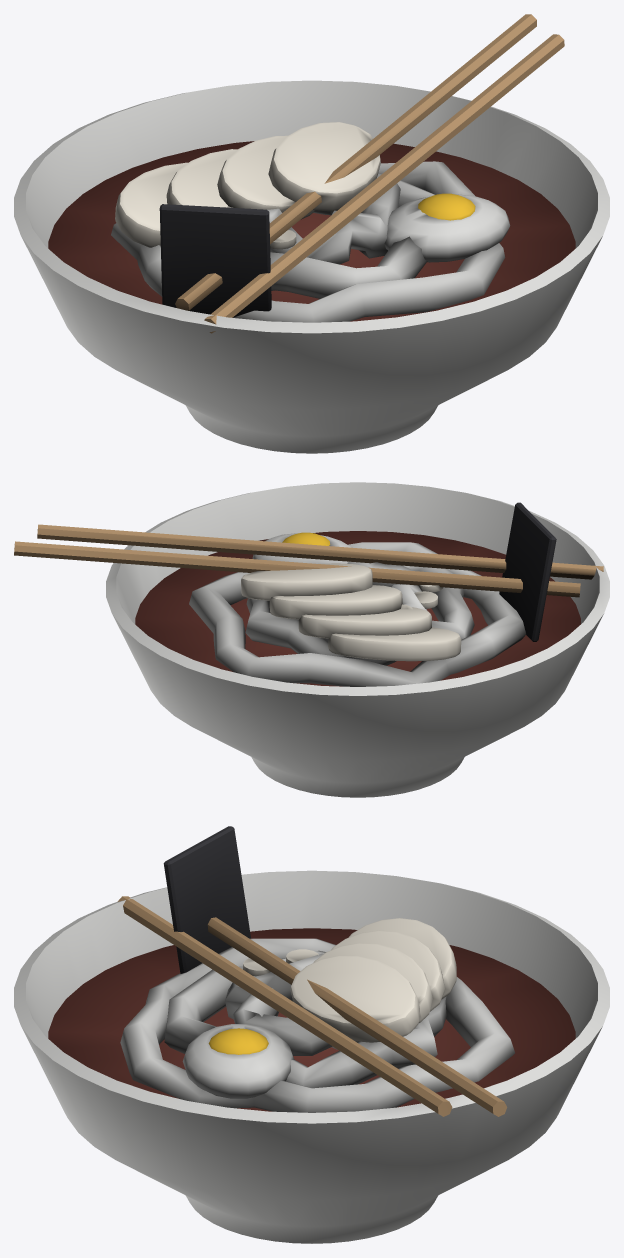
The model's file is meal_noodlesoup.glb.
The picture shows the model from 3 angles, top to bottom: view 1: azimuth 30°, elevation 25°; view 2: azimuth 150°, elevation 25°; view 3: azimuth 270°, elevation 25°; orthographic projection. The views are drawn at different scales.
Parts seen in each view (by area): view 1: PART; view 2: PART; view 3: PART.
Part boxes in pixels (box(x1,y1,x2,y2)): PART: box(14, 14, 609, 453); PART: box(14, 482, 609, 797); PART: box(14, 826, 609, 1243).
Size of the model in its own units: 0.2872 by 0.1299 by 0.258.
